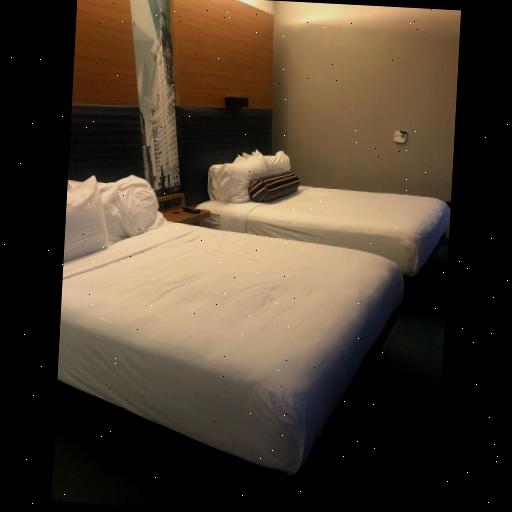Disorganized_pillow: (61, 174, 163, 266)
clean_bed: (60, 104, 404, 482), (176, 106, 449, 302)
organised_pillow: (211, 149, 303, 204)
